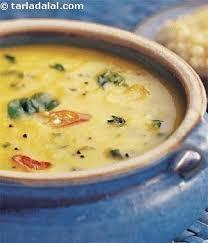varan: (0, 35, 194, 179)
